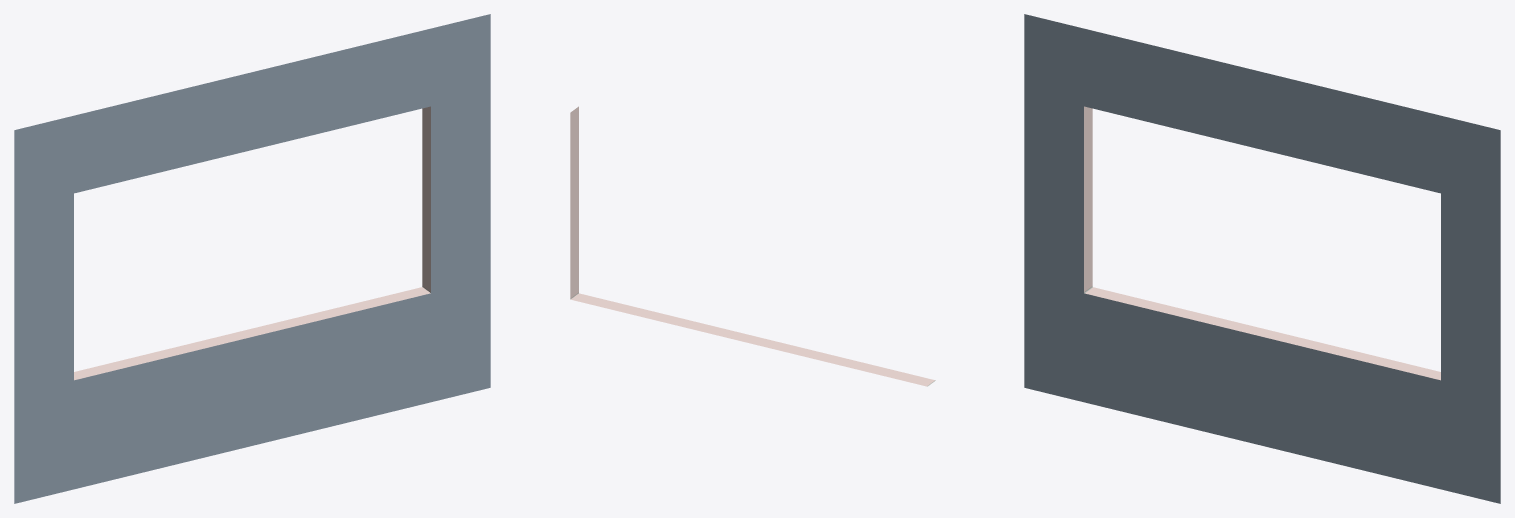
File: Wall4x3Win3x1_5Horz.gltf
3 views of the same model, side by side, from view 1: azimuth 30°, elevation 25°; view 2: azimuth 150°, elevation 25°; view 3: azimuth 330°, elevation 25° (orthographic).
Visible parts, largest first — view 1: Wall4x3Win3x1_5HorzShape; view 2: Wall4x3Win3x1_5HorzShape; view 3: Wall4x3Win3x1_5HorzShape.
Boxes of the visible parts, <box> form: Wall4x3Win3x1_5HorzShape: <box>14,14,490,503</box>; Wall4x3Win3x1_5HorzShape: <box>570,106,935,386</box>; Wall4x3Win3x1_5HorzShape: <box>1024,14,1500,503</box>.
Bounding box in the file's own units: 400 × 300 × 12.5.
1 material, 1 textured.
